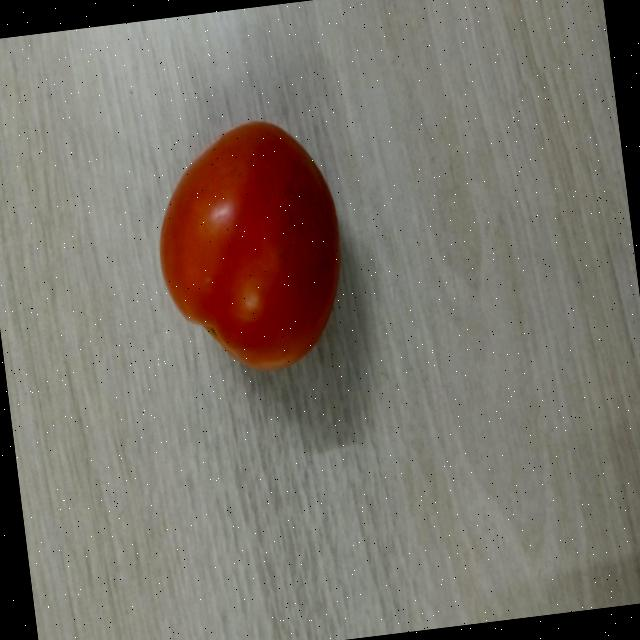Tomato: (140, 106, 356, 383)
